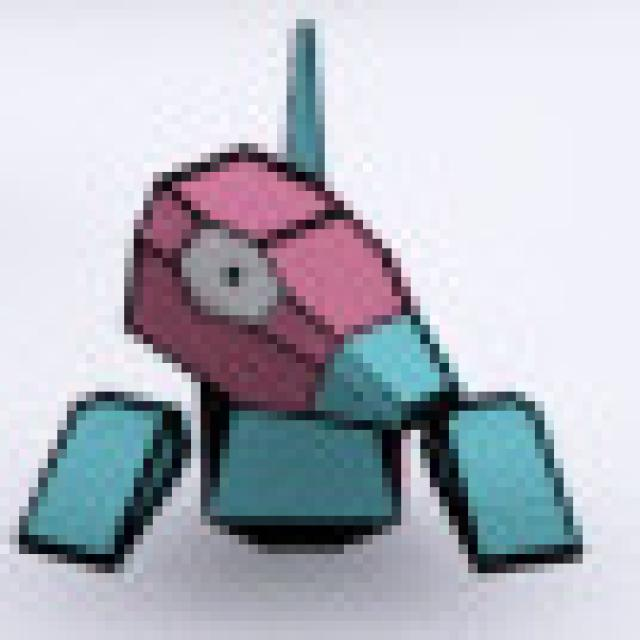Porygon: (61, 146, 549, 570)
